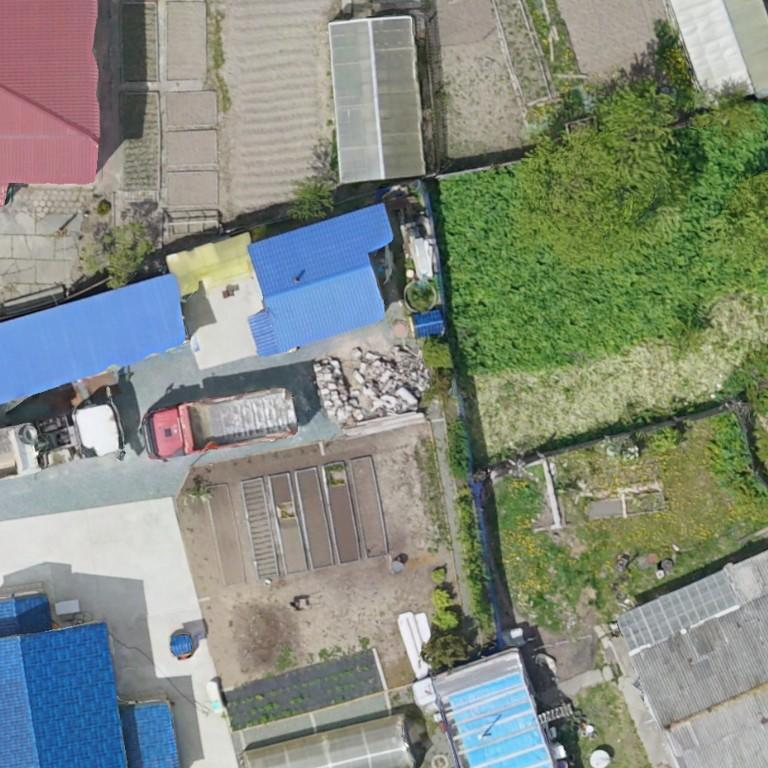hogweed: (430, 129, 767, 373)
